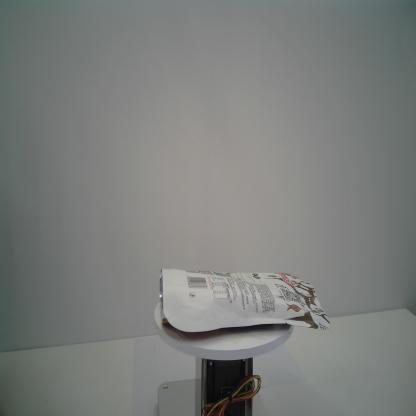Dried Fruit: (159, 268, 331, 333)
